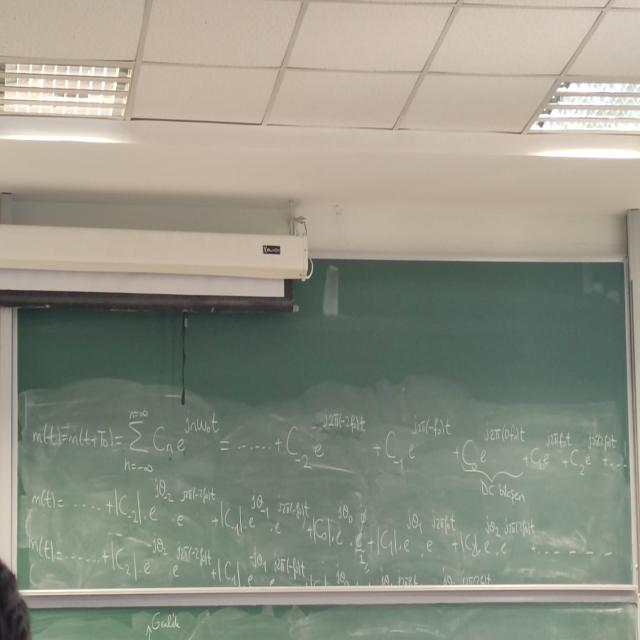math: (108, 472, 540, 565), (284, 408, 618, 478), (34, 406, 218, 460)
